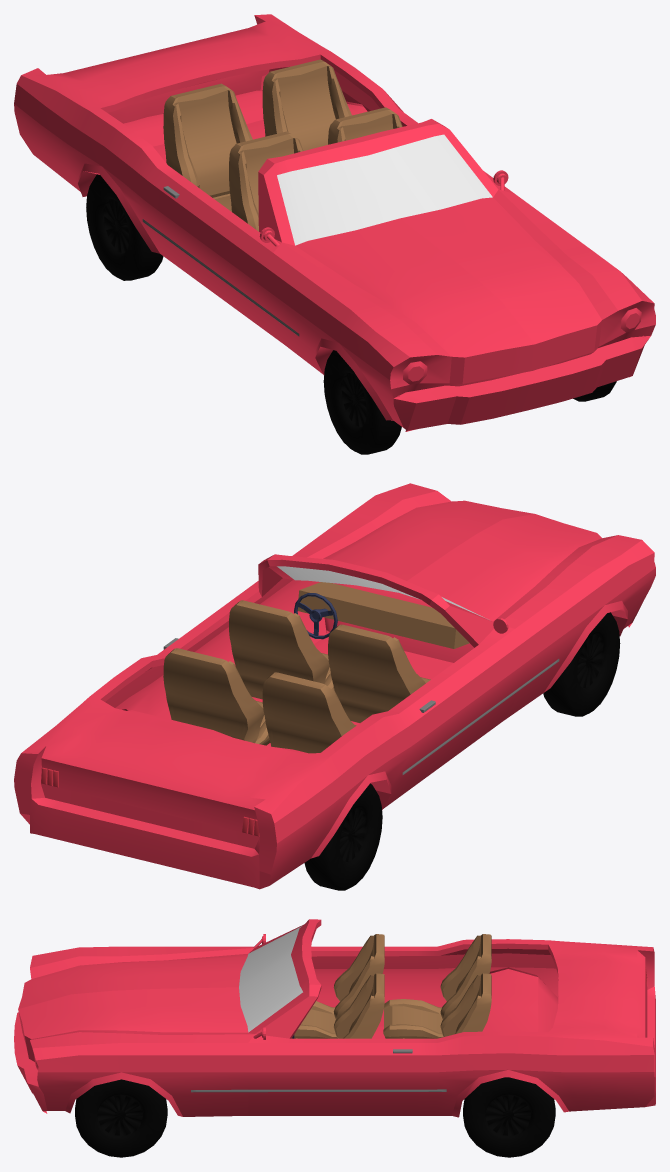
Rendered from carmodel(red).fbx.
3 renders of one model, top to bottom at view 1: azimuth 30°, elevation 25°; view 2: azimuth 150°, elevation 25°; view 3: azimuth 270°, elevation 25°, orthographic. The views are drawn at different scales.
Parts seen in each view (by area): view 1: bodywork, chairs, wheel in front right, wheel in back right, side add ons; view 2: bodywork, chairs, dashboard, wheel in back right, wheel in front right, steering wheel, side add ons; view 3: bodywork, chairs, wheel in back left, wheel in front left, side add ons.
Boxes of the visible parts, <box> form: bodywork: <box>14,14,655,431</box>; chairs: <box>163,59,402,231</box>; wheel in front right: <box>323,350,401,454</box>; wheel in back right: <box>86,174,163,280</box>; side add ons: <box>142,186,299,336</box>; bodywork: <box>14,483,655,889</box>; chairs: <box>163,600,430,753</box>; dashboard: <box>297,582,469,648</box>; wheel in back right: <box>304,783,382,890</box>; wheel in front right: <box>543,612,620,716</box>; steering wheel: <box>294,593,337,639</box>; side add ons: <box>163,638,559,774</box>; bodywork: <box>14,919,655,1117</box>; chairs: <box>292,934,491,1038</box>; wheel in back left: <box>463,1077,555,1157</box>; wheel in front left: <box>75,1079,167,1157</box>; side add ons: <box>191,1049,446,1092</box>.
Size of the model in its own units: 134 by 93.9 by 336.
